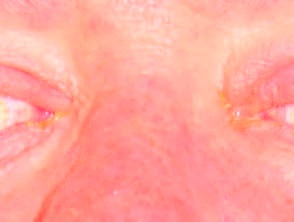SJS-TEN: (211, 81, 274, 136), (19, 106, 80, 143)
